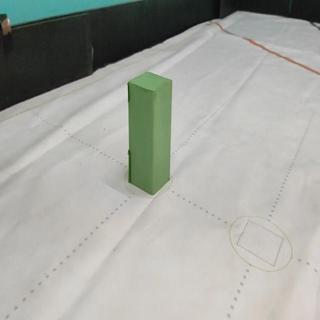greenbox: (129, 73, 173, 194)
